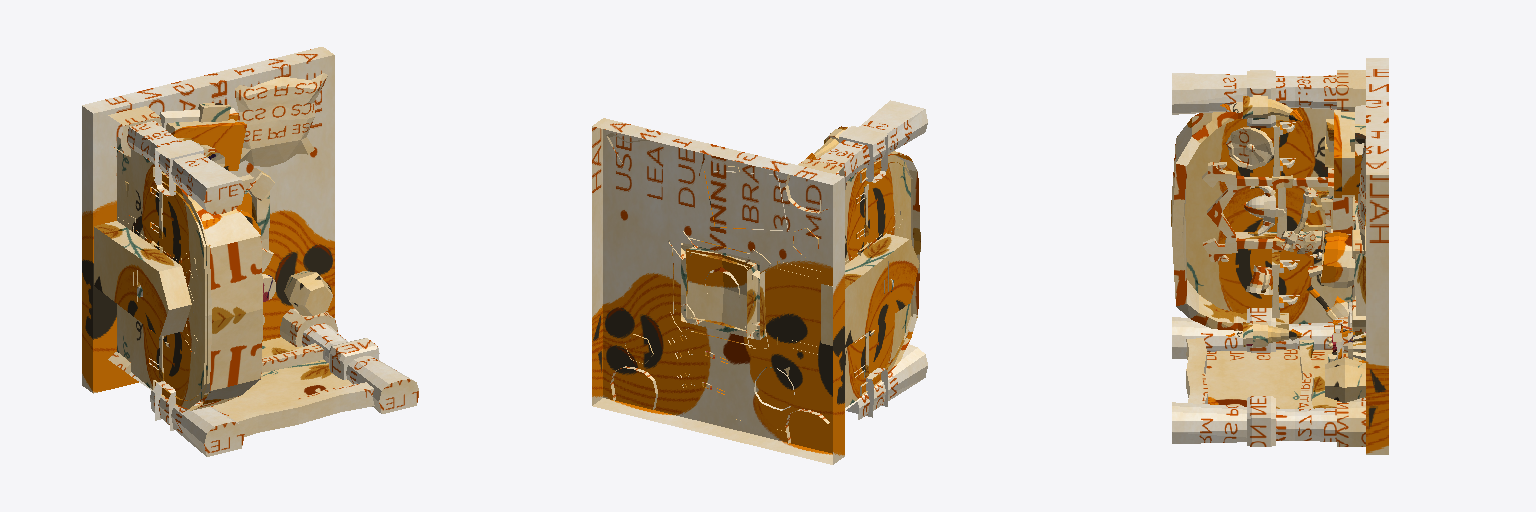
3 views of the same model, side by side, from view 1: azimuth 30°, elevation 25°; view 2: azimuth 150°, elevation 25°; view 3: azimuth 270°, elevation 25° (orthographic).
Parts seen in each view (by area): view 1: mesh_all1_Texture1_0; view 2: mesh_all1_Texture1_0; view 3: mesh_all1_Texture1_0.
Part boxes in pixels (left/top/right/bottom): mesh_all1_Texture1_0: left=82, top=47, right=418, bottom=456; mesh_all1_Texture1_0: left=592, top=100, right=927, bottom=464; mesh_all1_Texture1_0: left=1171, top=58, right=1388, bottom=454.
Bounding box in the file's own units: 1.33 × 1.46 × 1.03.
Materials: 1 (1 with a texture image).